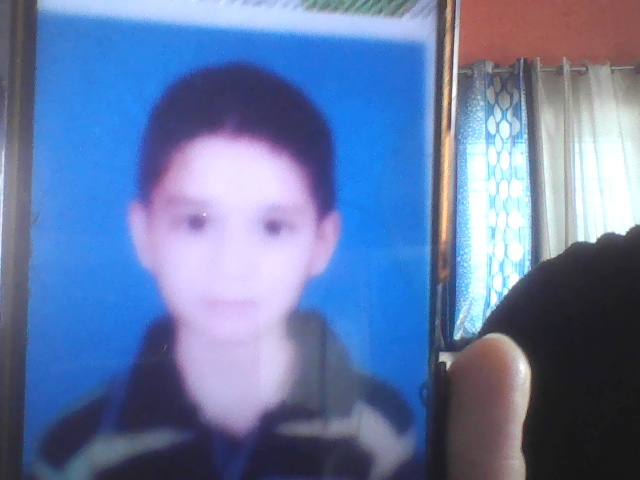fake: (129, 61, 347, 370)
